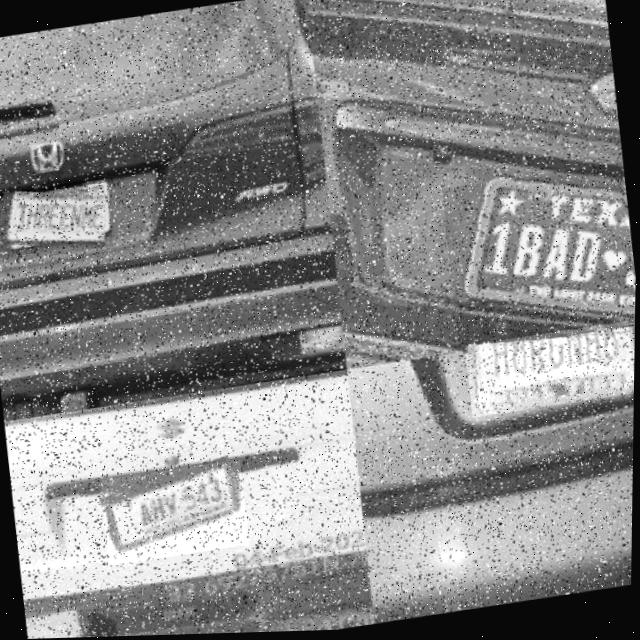LicensePlate: (455, 187, 636, 327), (101, 460, 251, 566), (470, 335, 634, 417), (0, 192, 109, 249)
